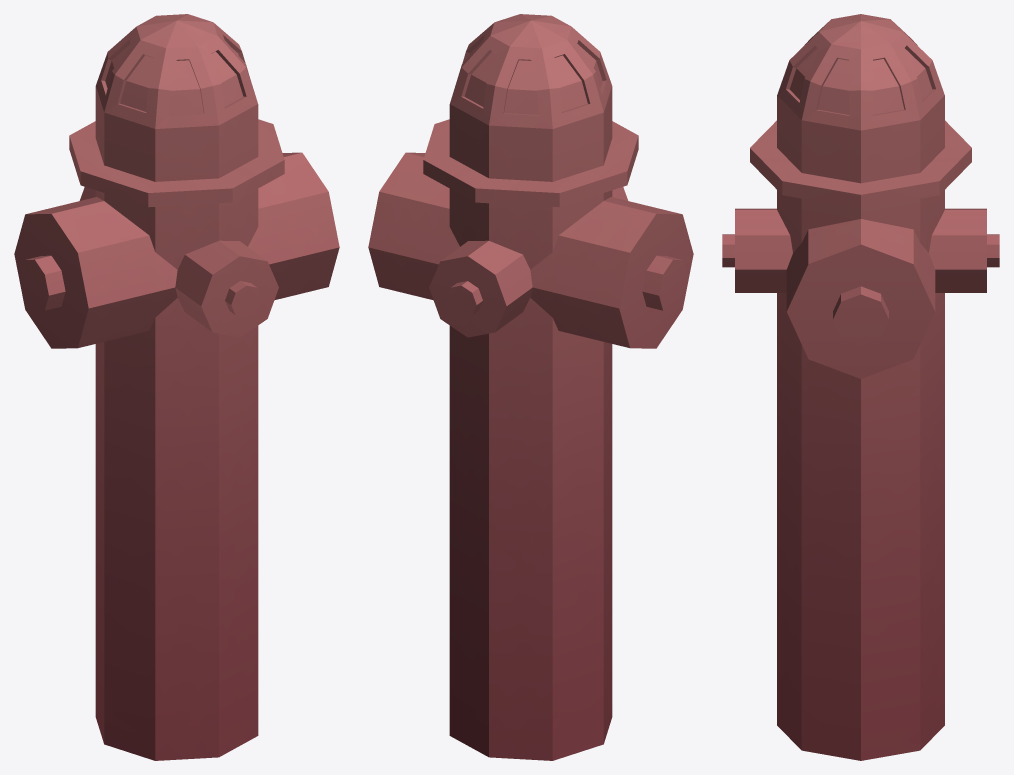
The model's file is Fire_Hydrant_FBX.fbx.
3 views of the same model, side by side, from view 1: azimuth 30°, elevation 25°; view 2: azimuth 150°, elevation 25°; view 3: azimuth 270°, elevation 25° (orthographic).
Parts seen in each view (by area): view 1: pCylinder39; view 2: pCylinder39; view 3: pCylinder39.
Part boxes in pixels (box(x1,y1,x2,y2)): pCylinder39: box(14, 14, 339, 760); pCylinder39: box(368, 14, 693, 760); pCylinder39: box(722, 14, 999, 760).
Size of the model in its own units: 38.99 by 92.54 by 33.01.
